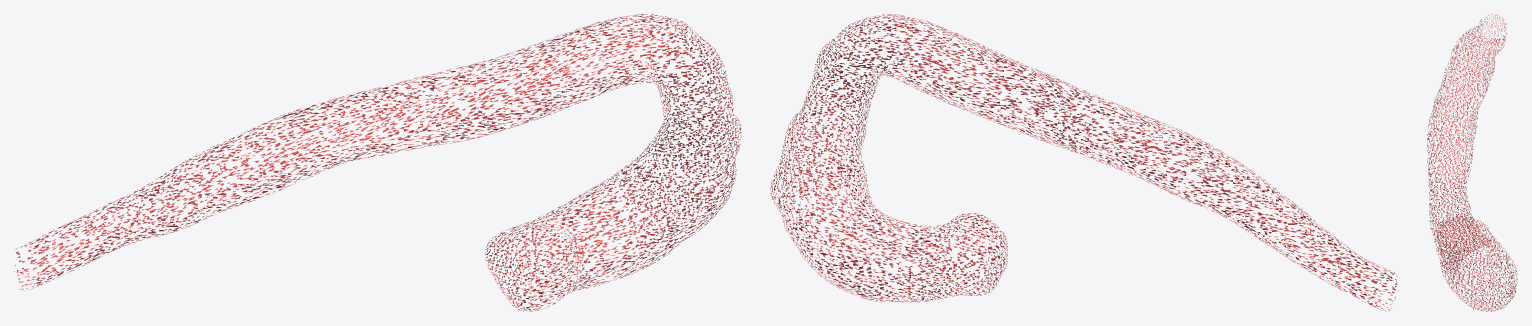
Rendered from aorta.glb.
3 renders of one model, left to right at view 1: azimuth 30°, elevation 25°; view 2: azimuth 150°, elevation 25°; view 3: azimuth 270°, elevation 25°, orthographic. The views are drawn at different scales.
Size of the model in its own units: 281 by 110 by 48.68.
